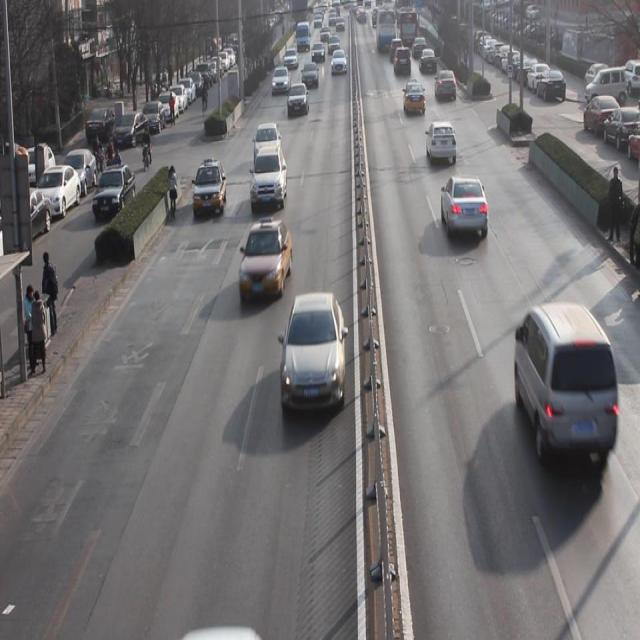car: (281, 290, 347, 412), (241, 218, 292, 301), (441, 174, 491, 243), (250, 144, 287, 210), (193, 158, 228, 216), (427, 121, 457, 166), (254, 120, 279, 164), (403, 81, 427, 117), (435, 69, 457, 100), (287, 82, 307, 116)
truck: (514, 301, 613, 466)
